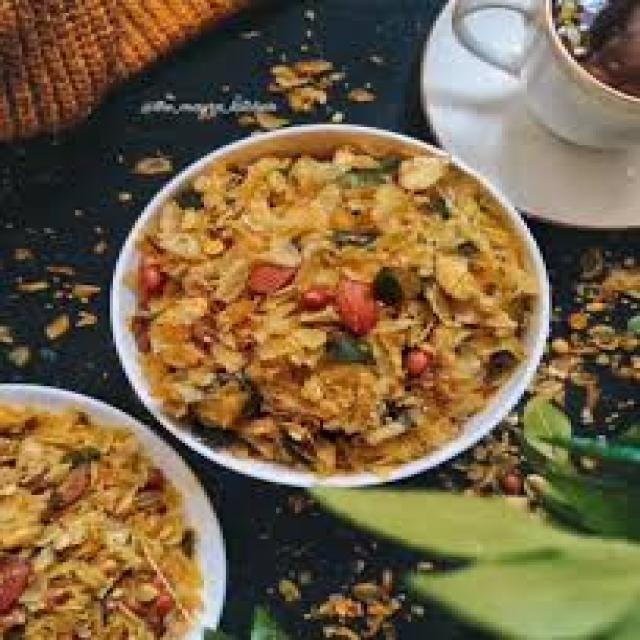POHA: (140, 147, 531, 473), (0, 401, 204, 637)
